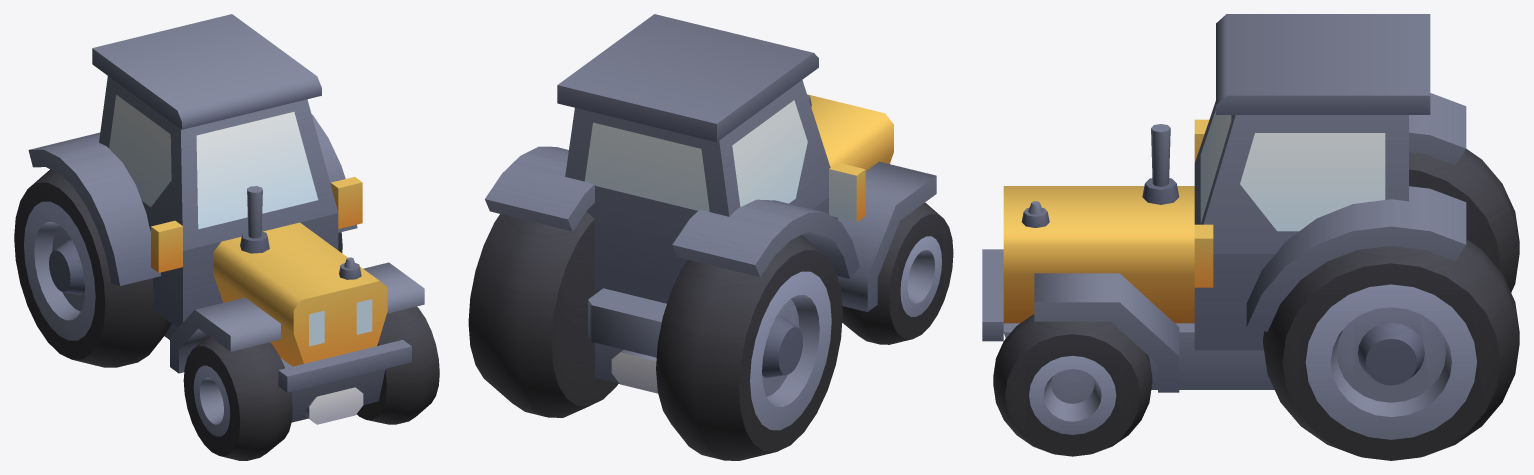
3 renders of one model, left to right at view 1: azimuth 30°, elevation 25°; view 2: azimuth 150°, elevation 25°; view 3: azimuth 270°, elevation 25°, orthographic. The views are drawn at different scales.
Visible parts, largest first — view 1: body, wheel-back-right, wheel-front-right, wheel-front-left; view 2: body, wheel-back-right, wheel-back-left, wheel-front-right; view 3: body, wheel-back-left, wheel-front-left, wheel-back-right.
Part boxes in pixels (left/top/right/bottom): body: left=28, top=14, right=424, bottom=424; wheel-back-right: left=14, top=169, right=171, bottom=367; wheel-front-right: left=183, top=336, right=292, bottom=460; wheel-front-left: left=356, top=306, right=439, bottom=424; body: left=485, top=14, right=936, bottom=393; wheel-back-right: left=656, top=235, right=842, bottom=460; wheel-back-left: left=468, top=211, right=618, bottom=417; wheel-front-right: left=842, top=202, right=953, bottom=344; body: left=982, top=14, right=1466, bottom=392; wheel-back-left: left=1263, top=239, right=1519, bottom=460; wheel-front-left: left=993, top=314, right=1152, bottom=456; wheel-back-right: left=1409, top=149, right=1519, bottom=292.
Bounding box in the file's own units: 1.34 × 1.6 × 2.2.
Materials: 1 (1 with a texture image).
